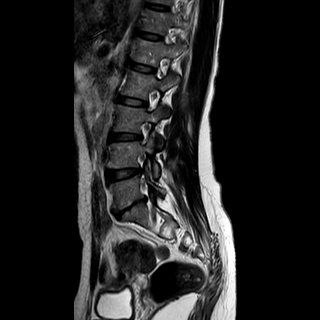RFS0: (147, 51, 172, 82), (141, 81, 162, 117), (131, 118, 157, 146)
